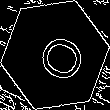O_W: (25, 25, 85, 85)
